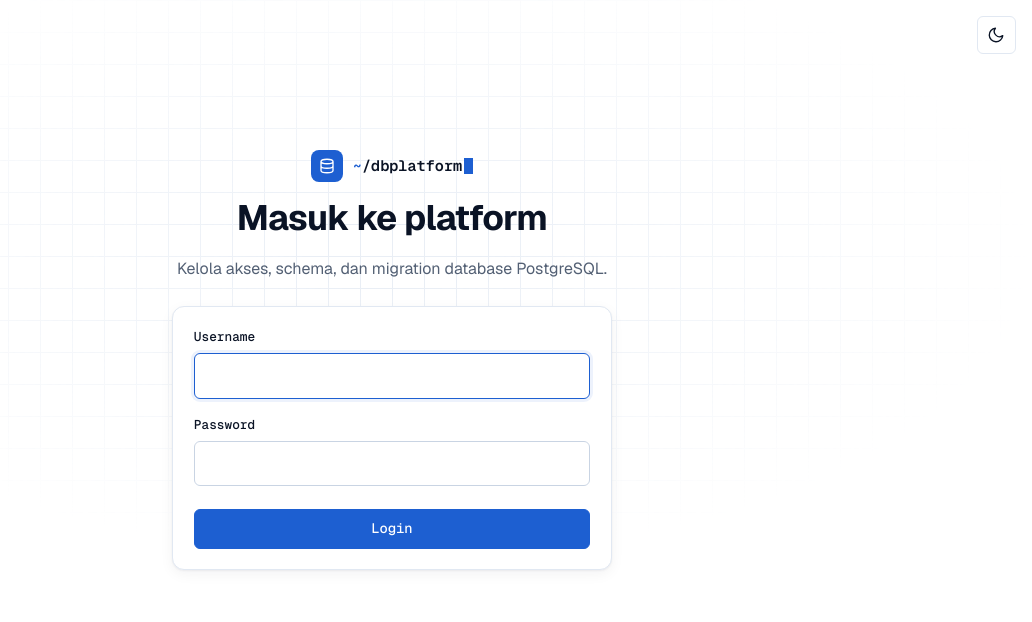
Test: login › login gagal menampilkan pesan dari server dan mengosongkan password
The width and height of the screenshot is (1032, 622).
Type "budi" into the field labelled "Username" at (392, 376), box [194, 353, 590, 399]
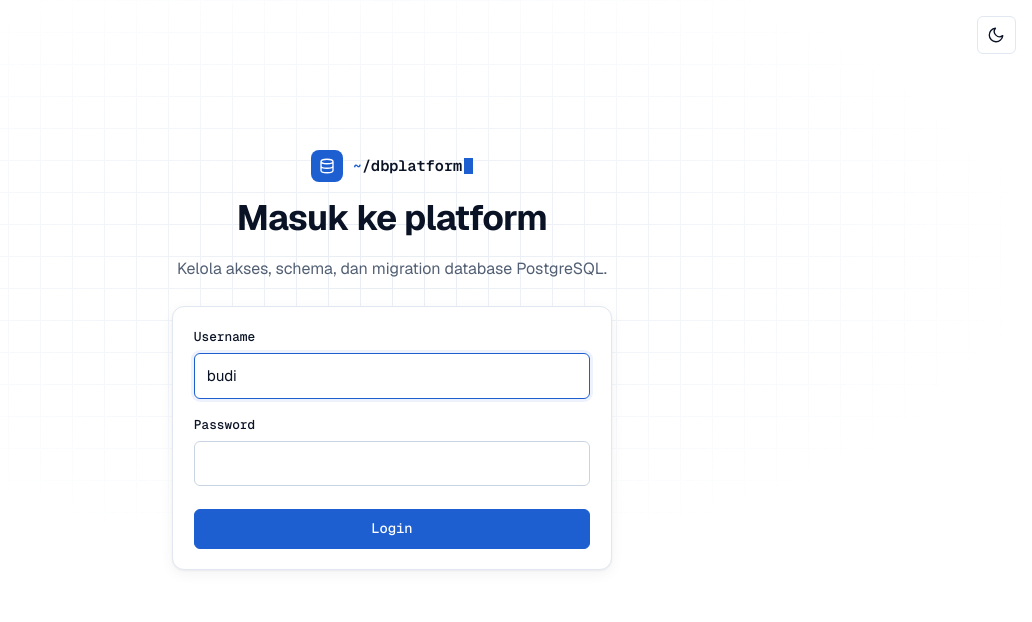
Type "salah" into the password field labelled "Password" at (392, 463), box [194, 441, 590, 486]
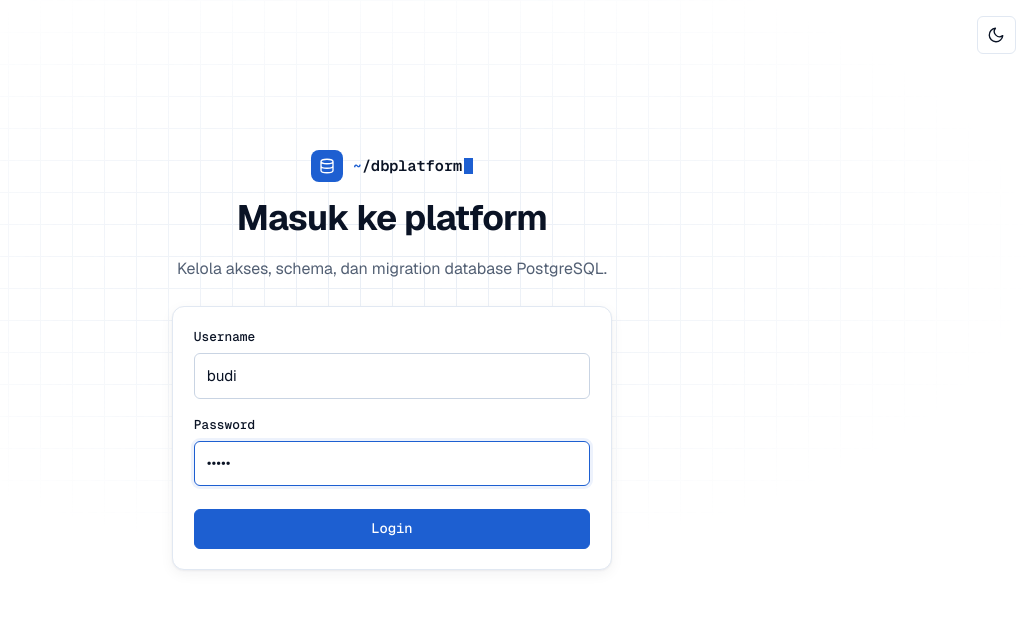
Click the button "Login" at (392, 529), box [194, 509, 590, 549]
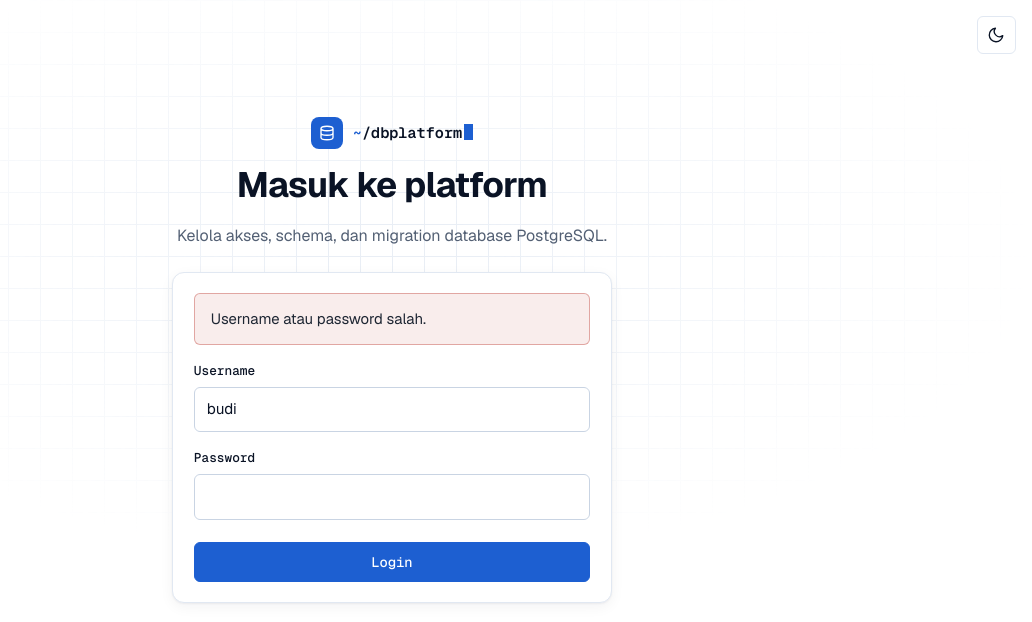
Check: the message does not show "req-7", box [194, 293, 590, 345]
Check: the message reads "Username atau password salah.", box [211, 309, 426, 328]
Check: the password field labelled "Password" is empty, box [194, 474, 590, 520]
